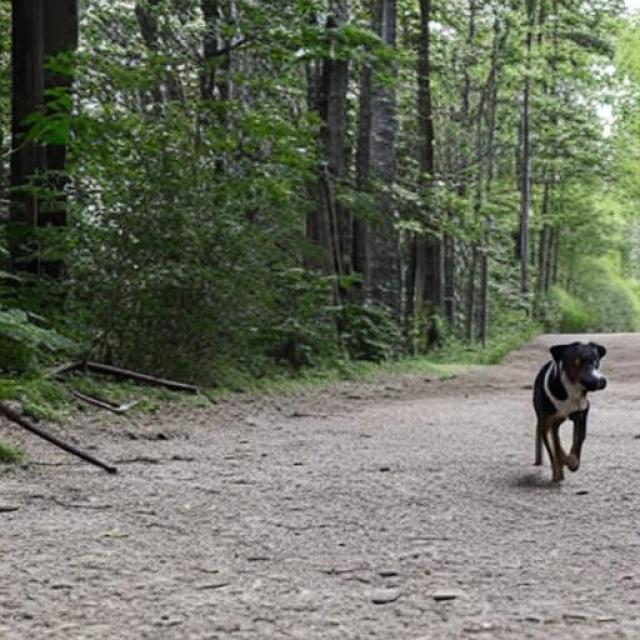Dog: (532, 340, 607, 483)
